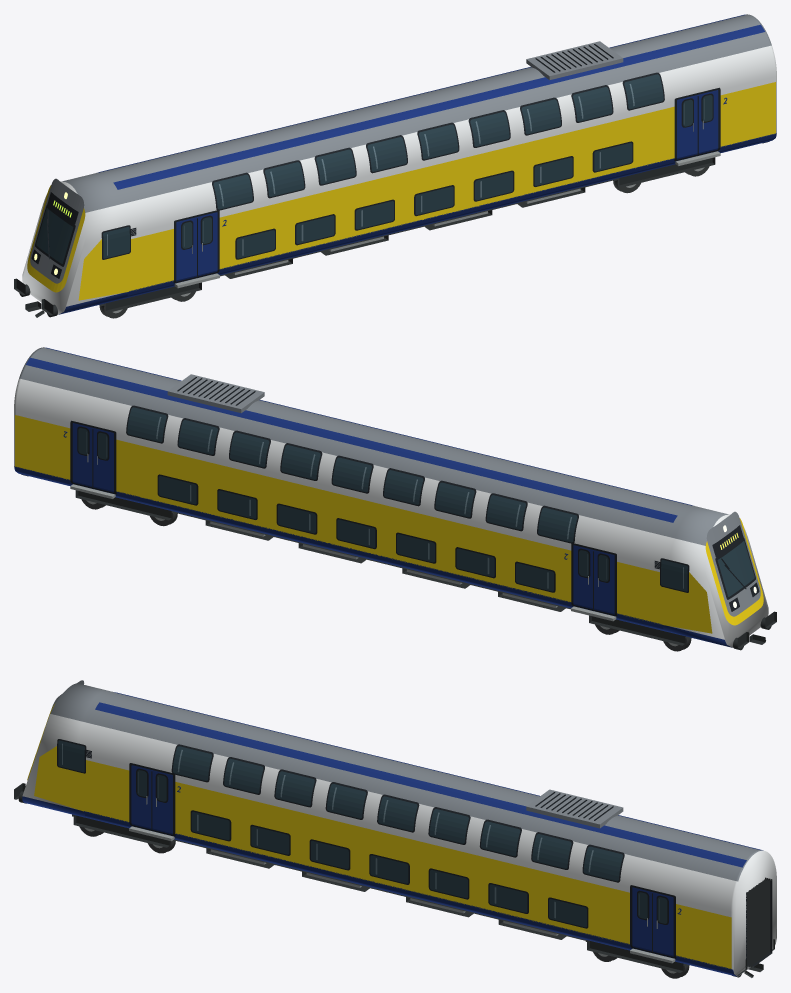
The model's file is metronom-cab-car.glb.
3 views of the same model, one above another, from view 1: azimuth 30°, elevation 25°; view 2: azimuth 150°, elevation 25°; view 3: azimuth 330°, elevation 25° (orthographic).
Visible parts, largest first — view 1: cab_car_continuous_shell, cab_car_yellow_curve_-1, cab_car_blue_roof_edge_-1, cab_car_blue_sill_-1, cab_car_yellow_cheek_-1, cab_car_door_blue_-1_1, cab_car_hvac_0, cab_car_door_blue_-1_0, cab_car_front_charcoal_mask, cab_car_panoramic_windscreen, cab_car_upper_-1_0_pane, cab_car_upper_-1_6_pane (+22 smaller); view 2: cab_car_continuous_shell, cab_car_yellow_curve_1, cab_car_blue_roof_edge_1, cab_car_blue_sill_1, cab_car_yellow_cheek_1, cab_car_door_blue_1_1, cab_car_hvac_0, cab_car_door_blue_1_0, cab_car_front_charcoal_mask, cab_car_bogie_0, cab_car_bogie_1, cab_car_panoramic_windscreen (+22 smaller); view 3: cab_car_continuous_shell, cab_car_yellow_curve_-1, cab_car_blue_roof_edge_-1, cab_car_blue_sill_-1, cab_car_yellow_cheek_-1, cab_car_hvac_0, cab_car_door_blue_-1_0, cab_car_door_blue_-1_1, cab_car_bellows_1_3, cab_car_upper_-1_1_pane, cab_car_upper_-1_4_pane, cab_car_upper_-1_6_pane (+20 smaller).
Part boxes in pixels (x1,y1,x2,y2): cab_car_continuous_shell: (22, 14, 776, 314); cab_car_yellow_curve_-1: (128, 82, 775, 291); cab_car_blue_roof_edge_-1: (113, 24, 764, 189); cab_car_blue_sill_-1: (127, 133, 775, 295); cab_car_yellow_cheek_-1: (78, 239, 128, 300); cab_car_door_blue_-1_1: (677, 90, 718, 159); cab_car_hvac_0: (526, 41, 623, 80); cab_car_door_blue_-1_0: (176, 212, 217, 281); cab_car_front_charcoal_mask: (30, 178, 84, 283); cab_car_panoramic_windscreen: (36, 208, 73, 263); cab_car_upper_-1_0_pane: (213, 174, 252, 209); cab_car_upper_-1_6_pane: (521, 99, 560, 134); cab_car_continuous_shell: (14, 347, 768, 647); cab_car_yellow_curve_1: (15, 415, 662, 624); cab_car_blue_roof_edge_1: (26, 357, 677, 522); cab_car_blue_sill_1: (15, 466, 663, 628); cab_car_yellow_cheek_1: (662, 572, 712, 633); cab_car_door_blue_1_1: (72, 423, 113, 492); cab_car_hvac_0: (167, 374, 264, 413); cab_car_door_blue_1_0: (573, 545, 614, 614); cab_car_front_charcoal_mask: (706, 511, 760, 616); cab_car_bogie_0: (589, 615, 691, 651); cab_car_bogie_1: (75, 490, 177, 526); cab_car_panoramic_windscreen: (717, 541, 754, 596); cab_car_continuous_shell: (22, 683, 776, 976); cab_car_yellow_curve_-1: (84, 760, 731, 968); cab_car_blue_roof_edge_-1: (95, 702, 746, 867); cab_car_blue_sill_-1: (84, 811, 732, 973); cab_car_yellow_cheek_-1: (34, 746, 83, 811); cab_car_hvac_0: (526, 789, 623, 828); cab_car_door_blue_-1_0: (131, 765, 172, 834); cab_car_door_blue_-1_1: (632, 887, 673, 956); cab_car_bellows_1_3: (751, 879, 772, 967); cab_car_upper_-1_1_pane: (224, 758, 263, 793); cab_car_upper_-1_4_pane: (378, 796, 417, 831); cab_car_upper_-1_6_pane: (481, 821, 520, 856).
Size of the model in its own units: 26.95 by 4.78 by 3.08.
